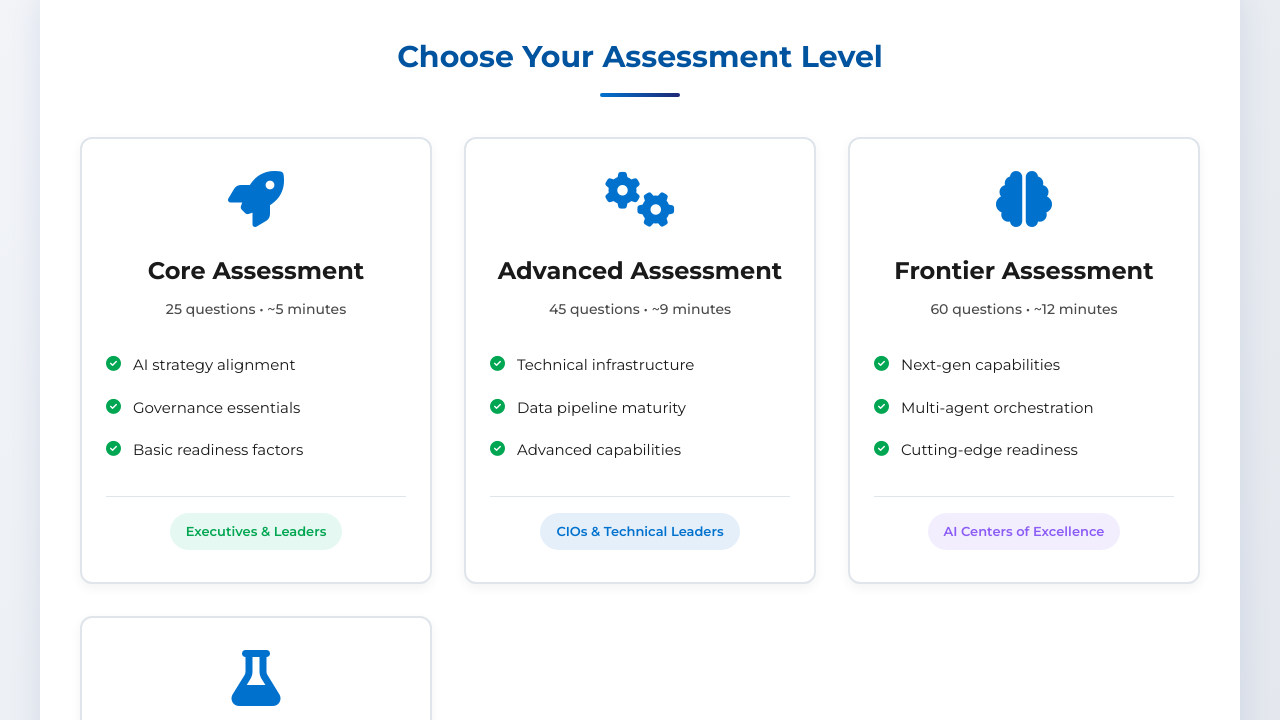
it: Responsive Design & Mobile View › Desktop viewport (1280x720) › should have clickable CTA button
(page scrolled)
Click the text "Core Assessment".
click(256, 361)  # box [80,137,432,584]
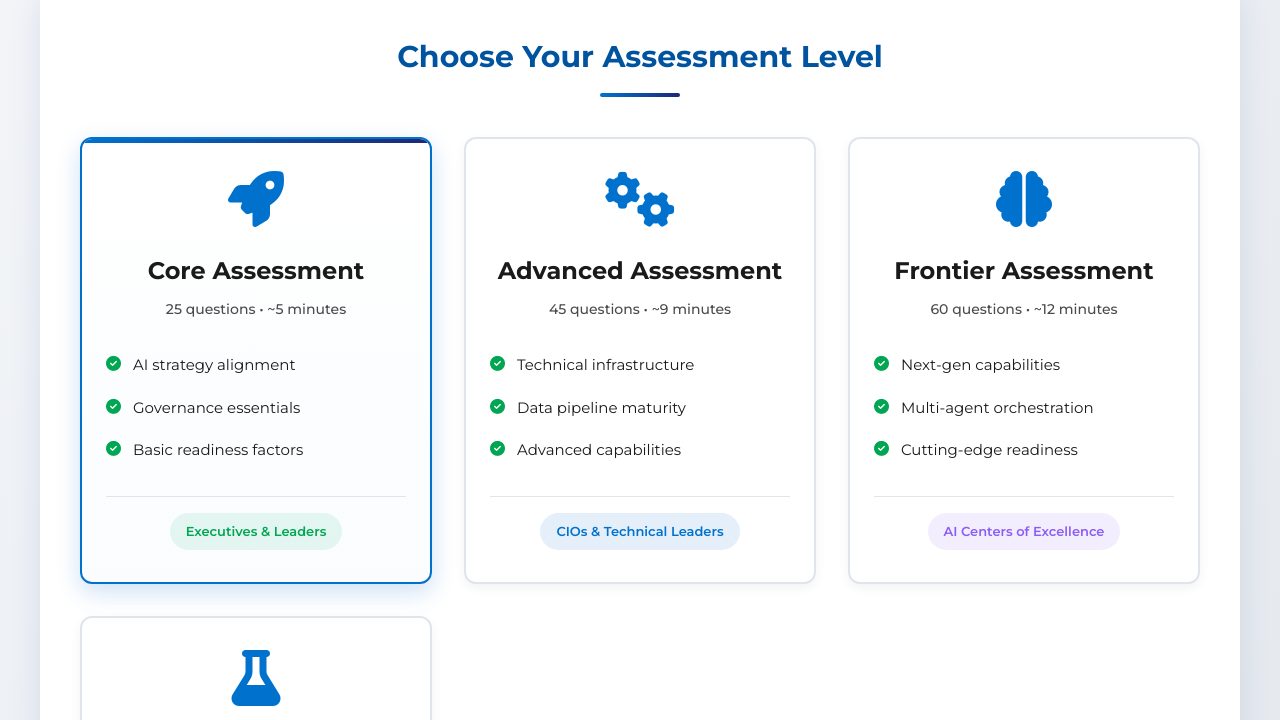
Scroll
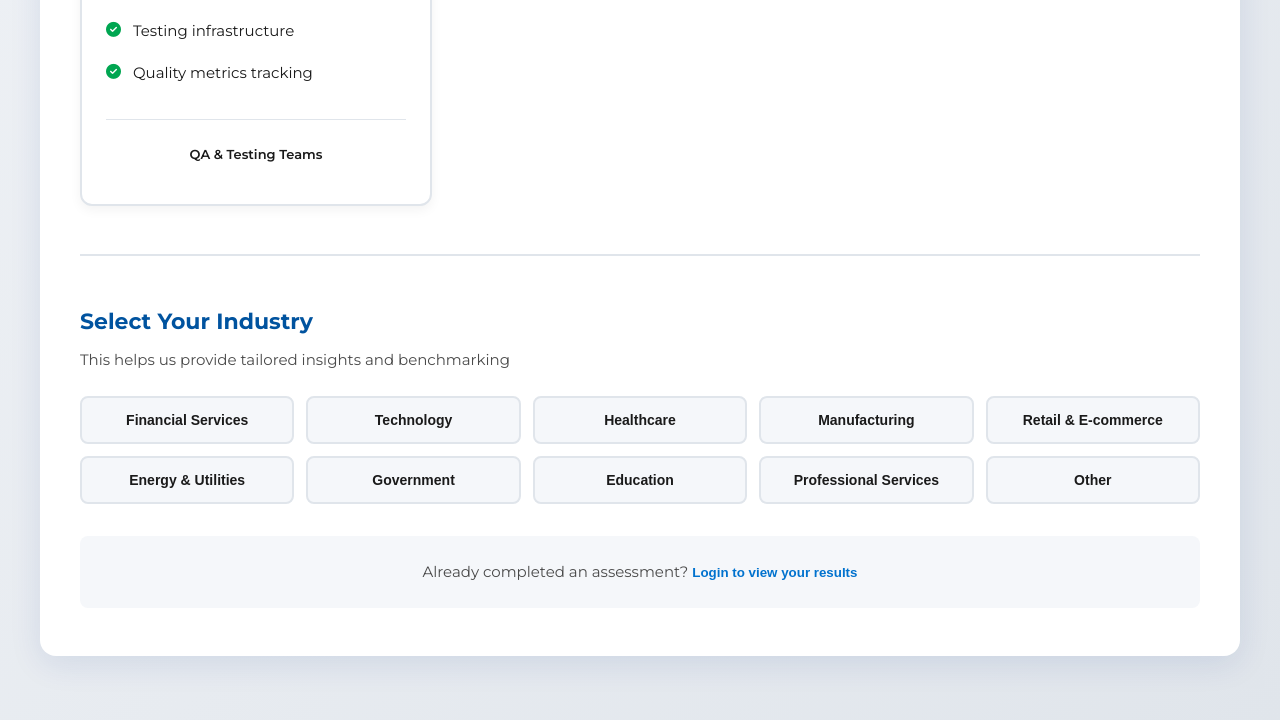
Click the button with class "industry-btn" showing "Financial Services".
click(187, 420)  # box [80,396,294,444]
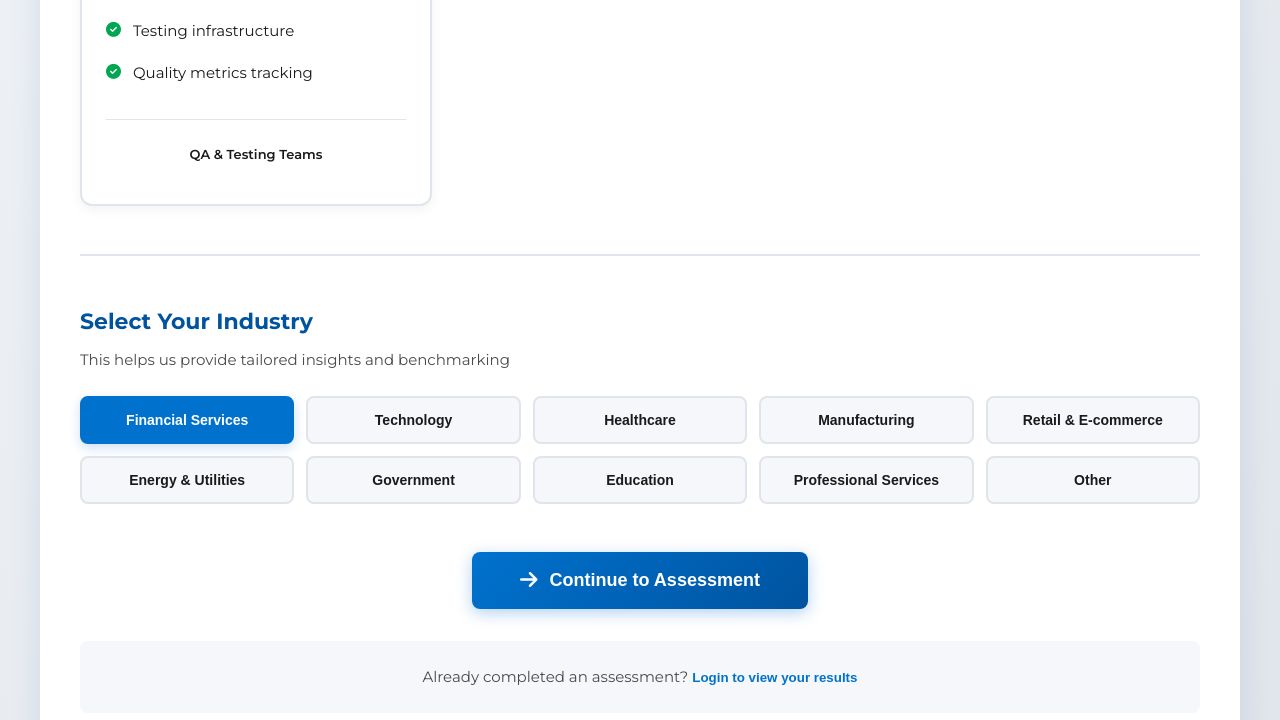
expect the button "Continue to Assessment" is shown: met, box [472,552,808,609]
